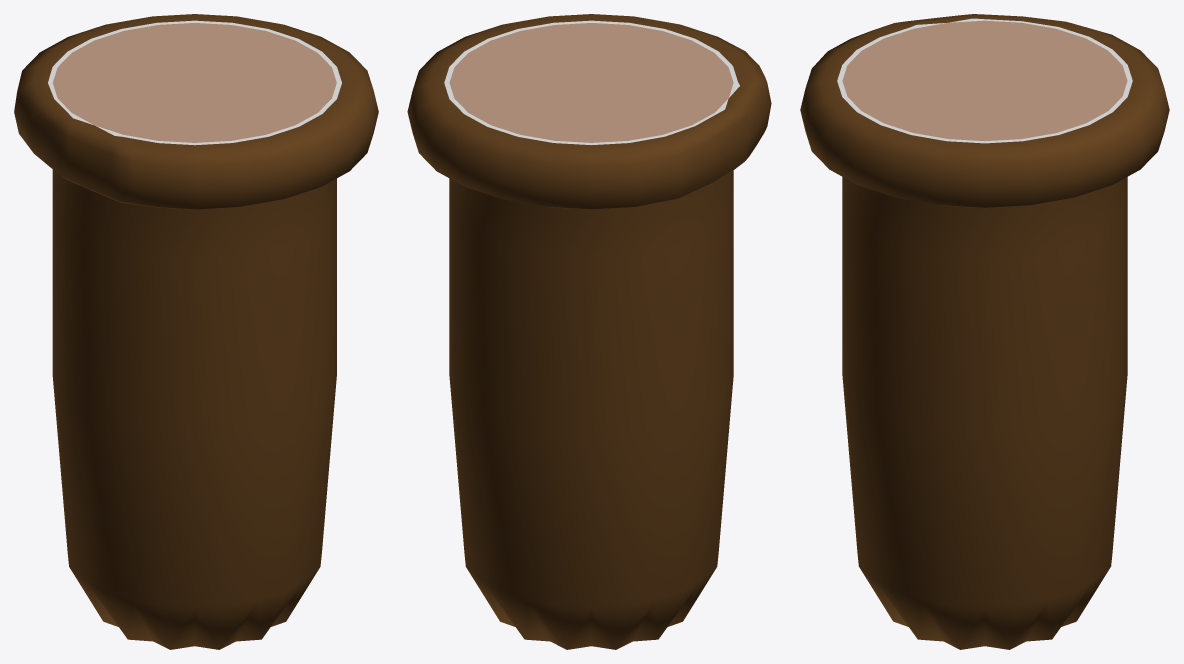
File: bridge_post.fbx
3 views of the same model, side by side, from view 1: azimuth 30°, elevation 25°; view 2: azimuth 150°, elevation 25°; view 3: azimuth 270°, elevation 25° (orthographic).
Parts seen in each view (by area): view 1: pCylinder1; view 2: pCylinder1; view 3: pCylinder1.
Boxes of the visible parts, <box> form: pCylinder1: <box>14,14,378,649</box>; pCylinder1: <box>407,14,771,649</box>; pCylinder1: <box>800,14,1169,649</box>.
Bounding box in the file's own units: 2.4 × 3.97 × 2.5.
